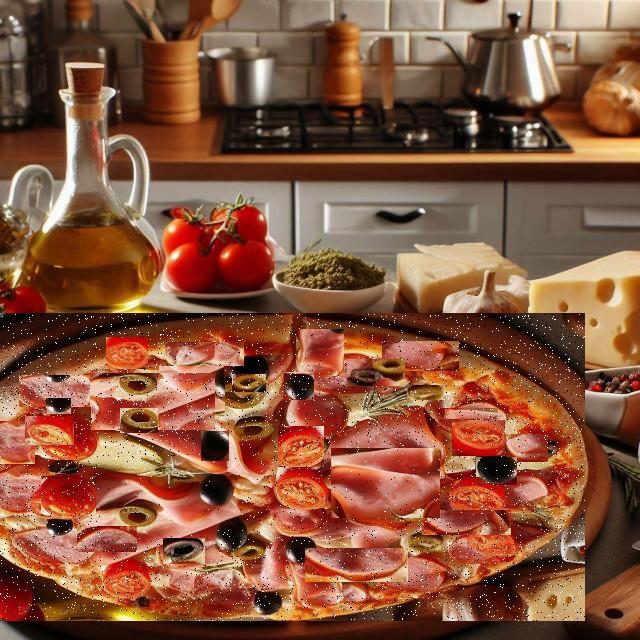Ham: (100, 457, 258, 538), (331, 448, 440, 518), (91, 373, 215, 430), (305, 548, 408, 582), (305, 541, 410, 573), (160, 366, 226, 416), (284, 493, 348, 544), (20, 375, 104, 407), (382, 341, 459, 371), (296, 329, 344, 376), (422, 510, 511, 535), (165, 342, 244, 366), (77, 526, 137, 552), (0, 421, 35, 464), (249, 346, 291, 380), (506, 434, 548, 462), (438, 408, 498, 419)
Olives: (218, 526, 266, 573), (347, 359, 405, 386), (476, 457, 517, 485), (163, 538, 205, 564), (234, 497, 278, 520), (527, 477, 566, 502), (120, 408, 158, 433), (284, 372, 314, 400), (201, 431, 229, 461), (218, 384, 245, 412), (254, 318, 280, 343), (232, 374, 266, 392), (407, 386, 444, 402), (295, 478, 325, 497), (406, 414, 439, 428), (50, 460, 80, 474), (47, 398, 71, 414)
Pizza: (0, 315, 585, 621)
Tomato: (41, 476, 96, 516), (452, 420, 505, 456), (278, 426, 324, 467), (25, 416, 74, 445), (106, 337, 148, 369), (470, 381, 516, 406)
